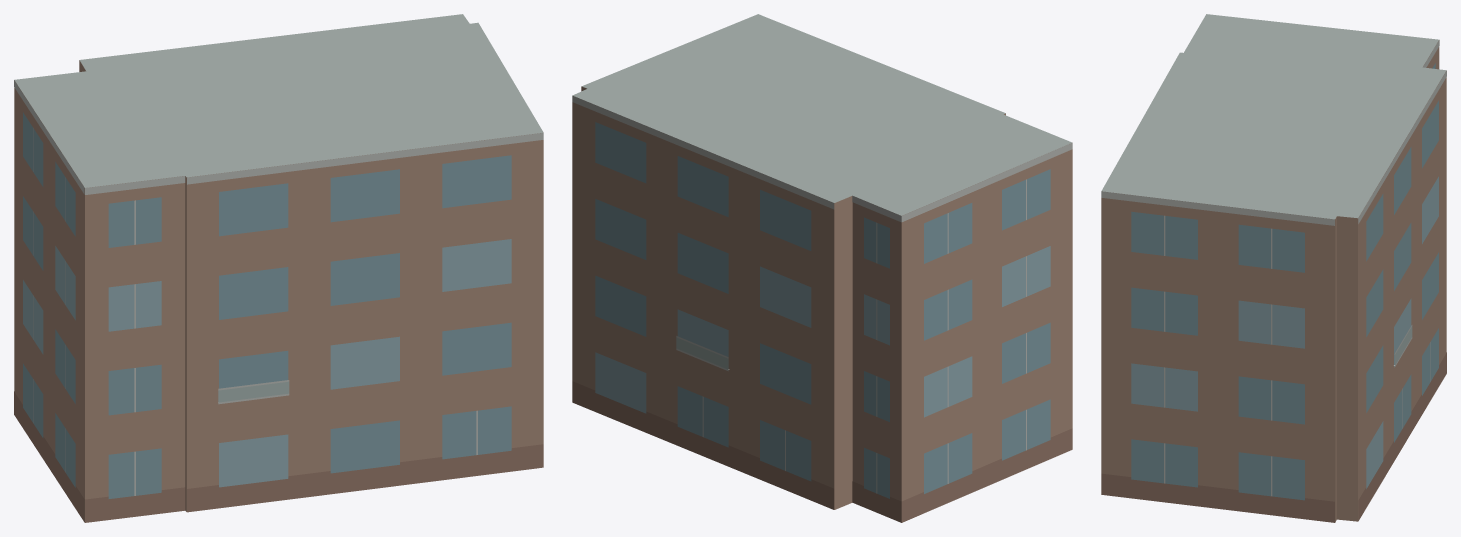
File: survey-upis-32586418.glb
3 renders of one model, left to right at view 1: azimuth 30°, elevation 25°; view 2: azimuth 150°, elevation 25°; view 3: azimuth 270°, elevation 25°, orthographic. The views are drawn at different scales.
Visible parts, largest first — view 1: survey-upis-32586418.tmp; view 2: survey-upis-32586418.tmp; view 3: survey-upis-32586418.tmp.
Part boxes in pixels (bbox=[...]): survey-upis-32586418.tmp: bbox=[14, 14, 543, 522]; survey-upis-32586418.tmp: bbox=[572, 14, 1072, 522]; survey-upis-32586418.tmp: bbox=[1101, 14, 1446, 522].
Size of the model in its own units: 16.56 by 11.4 by 11.77.
